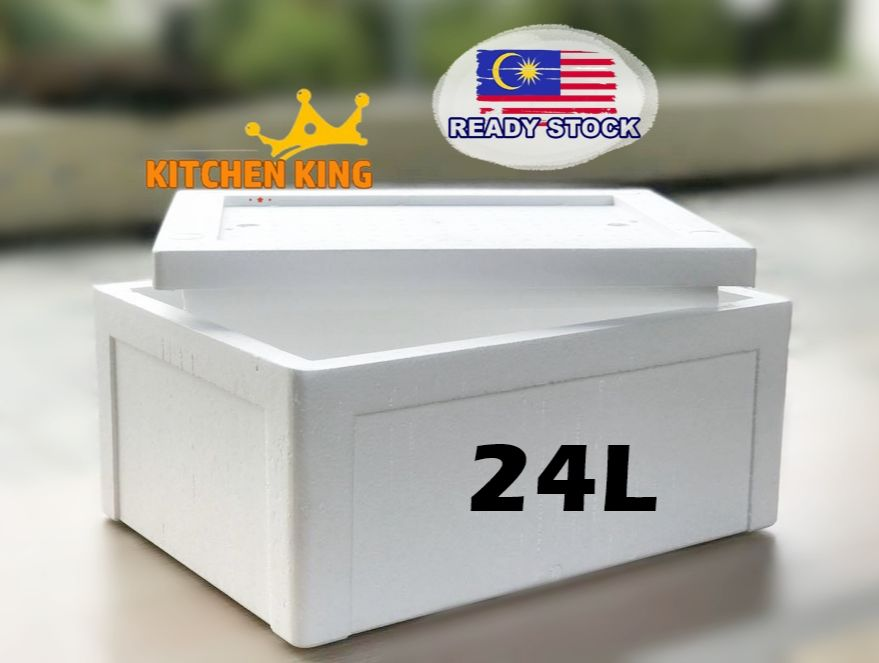Parcel: (96, 190, 790, 647)
